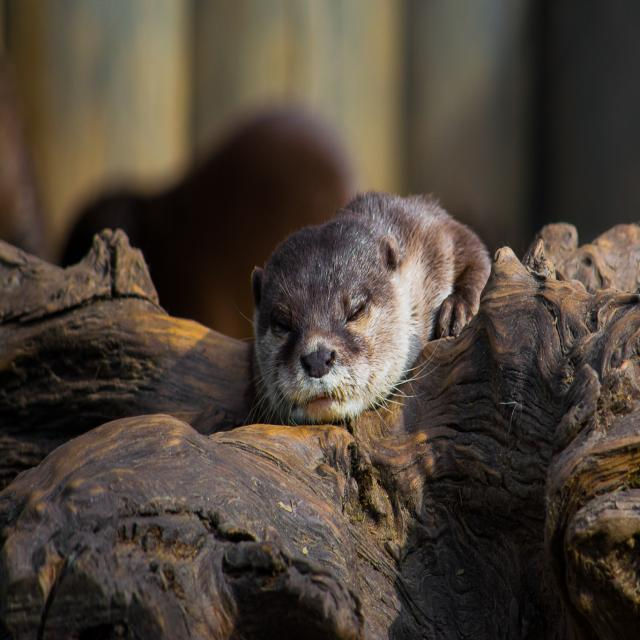otter: (253, 194, 493, 425)
